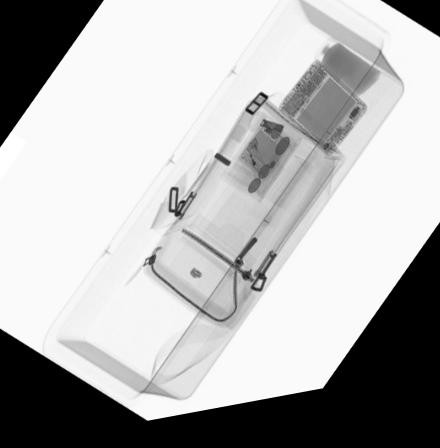Lighter: (243, 142, 268, 195)
